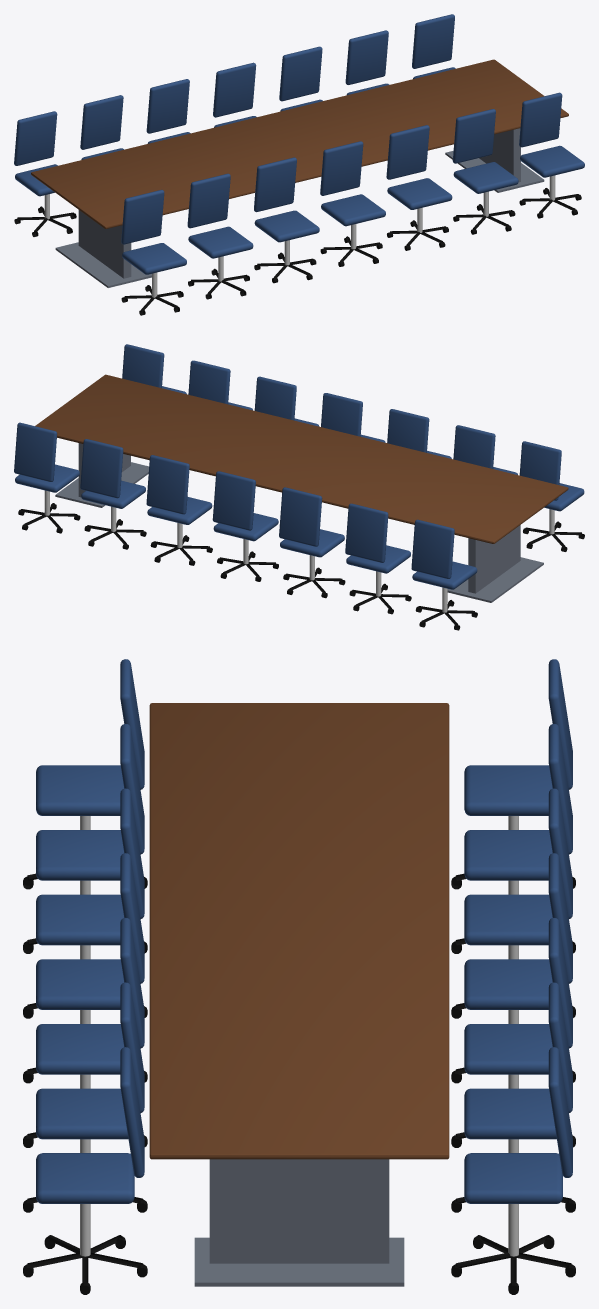
File: furniture.table.boardroom_14.glb
3 views of the same model, one above another, from view 1: azimuth 30°, elevation 25°; view 2: azimuth 150°, elevation 25°; view 3: azimuth 270°, elevation 25° (orthographic). The views are drawn at different scales.
Visible parts, largest first — view 1: main__fabric_blue, main__hardwood, main__steel_painted, main__plastic_black, main__steel_stainless; view 2: main__hardwood, main__fabric_blue, main__steel_painted, main__plastic_black, main__steel_stainless; view 3: main__hardwood, main__fabric_blue, main__steel_painted, main__plastic_black, main__steel_stainless.
Part boxes in pixels (<box>): main__fabric_blue: <box>14,14,584,274</box>; main__hardwood: <box>31,59,568,228</box>; main__steel_painted: <box>55,128,544,287</box>; main__plastic_black: <box>14,188,581,315</box>; main__steel_stainless: <box>44,175,555,297</box>; main__hardwood: <box>35,374,568,543</box>; main__fabric_blue: <box>14,344,584,589</box>; main__steel_painted: <box>55,443,543,602</box>; main__plastic_black: <box>18,503,584,630</box>; main__steel_stainless: <box>44,490,554,612</box>; main__hardwood: <box>149,703,449,1159</box>; main__fabric_blue: <box>36,659,572,1203</box>; main__steel_painted: <box>194,1159,404,1286</box>; main__plastic_black: <box>23,873,575,1294</box>; main__steel_stainless: <box>80,816,518,1256</box>.
Bounding box in the file's own units: 5 × 1.05 × 2.58.
